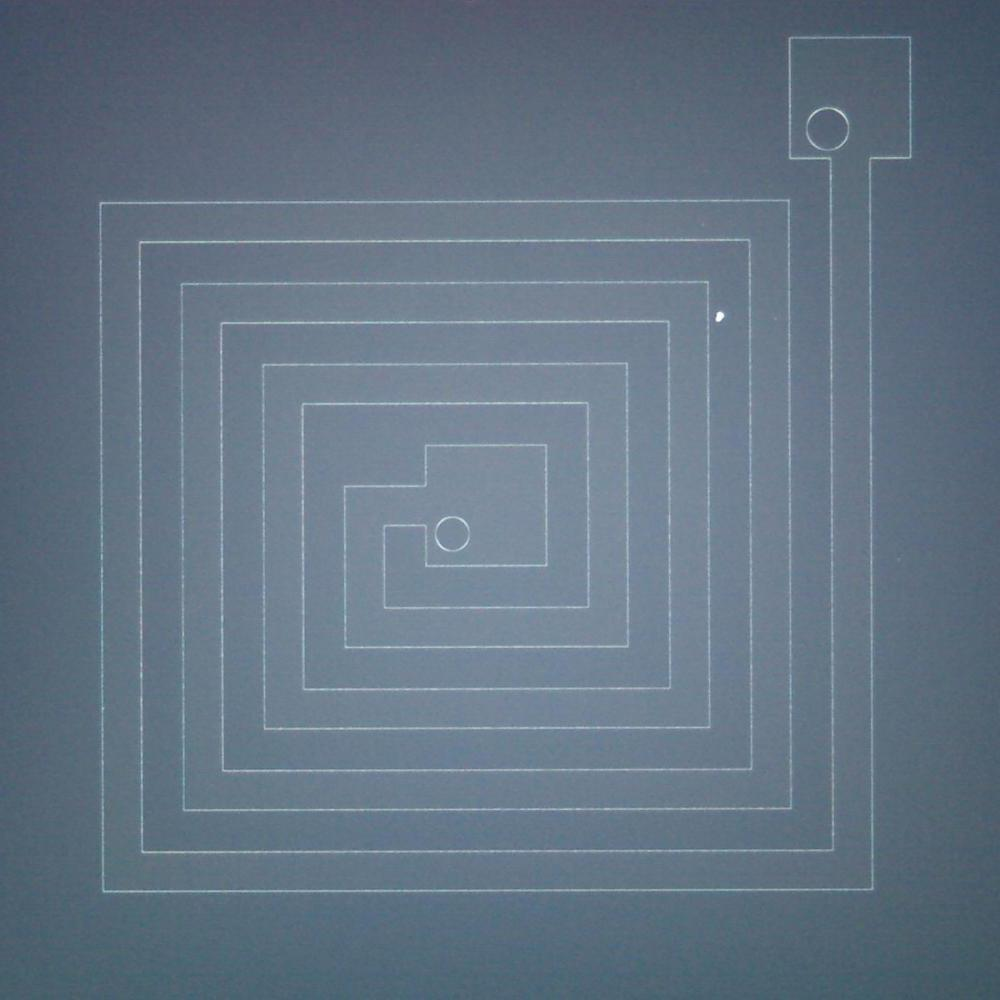circle: (800, 103, 854, 154), (433, 514, 471, 556)
spot: (704, 303, 732, 329)
